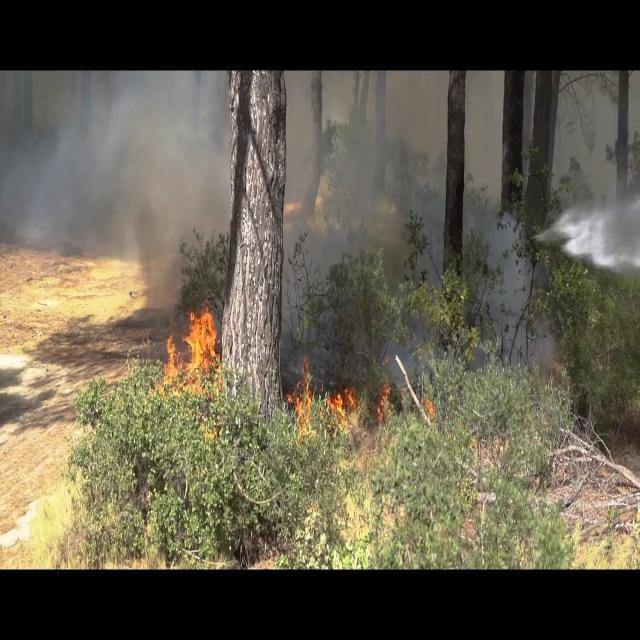Fire: (290, 357, 360, 433), (164, 302, 222, 389)
Smoke: (286, 71, 514, 318), (0, 70, 244, 270)
